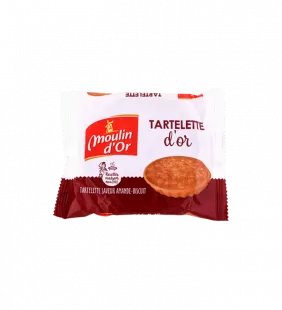MOULIN D'OR: (44, 76, 236, 228)
